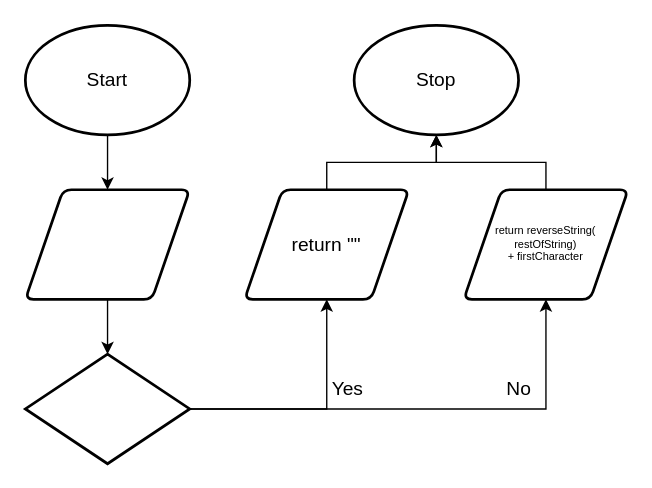
Some shapes in this 652 by 488 pixel diagram are drawn without their labels. The centre of each missing label's shape, as x and y in pixels:
Get stringToReverse: point 106,244
if (stringToReverse == ""): point 106,408
